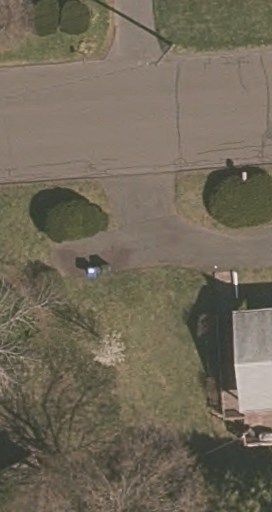DT: (148, 37, 183, 79)
